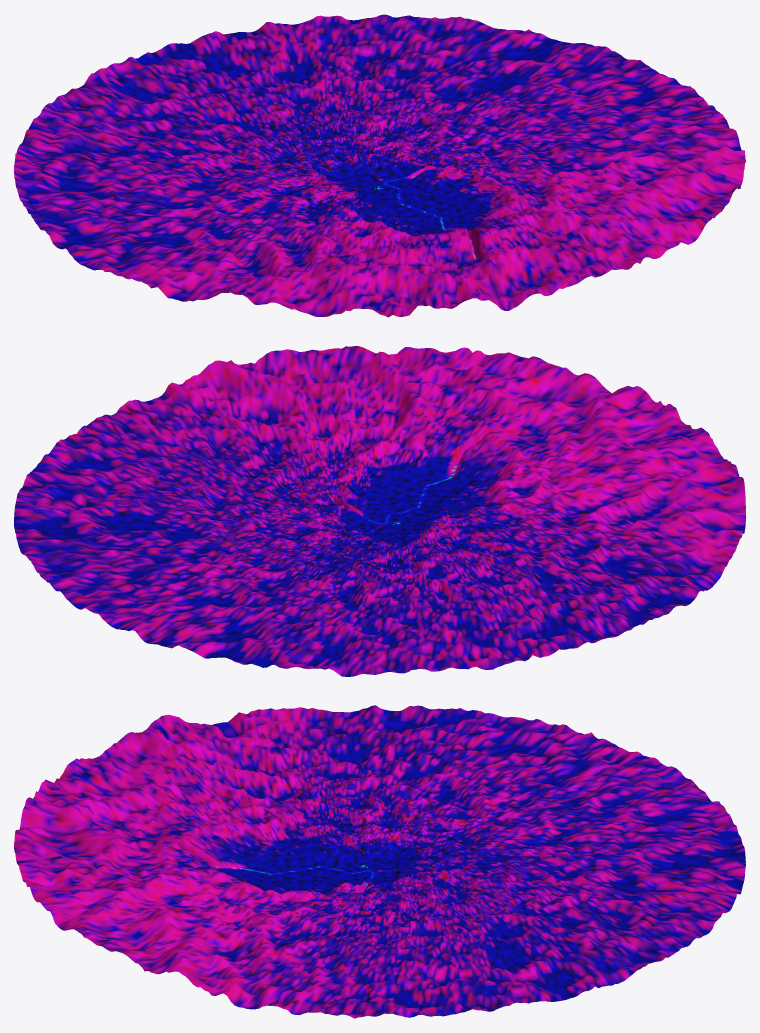
The model's file is origins-terrain.glb.
3 views of the same model, one above another, from view 1: azimuth 30°, elevation 25°; view 2: azimuth 150°, elevation 25°; view 3: azimuth 270°, elevation 25° (orthographic).
Parts seen in each view (by area): view 1: OriginsTerrain; view 2: OriginsTerrain; view 3: OriginsTerrain.
Boxes of the visible parts, box(x1,y1,x2,y2) form: OriginsTerrain: box(14, 14, 745, 317); OriginsTerrain: box(14, 346, 745, 676); OriginsTerrain: box(14, 705, 745, 1018).
Bounding box in the file's own units: 28000 × 1394 × 28000.
